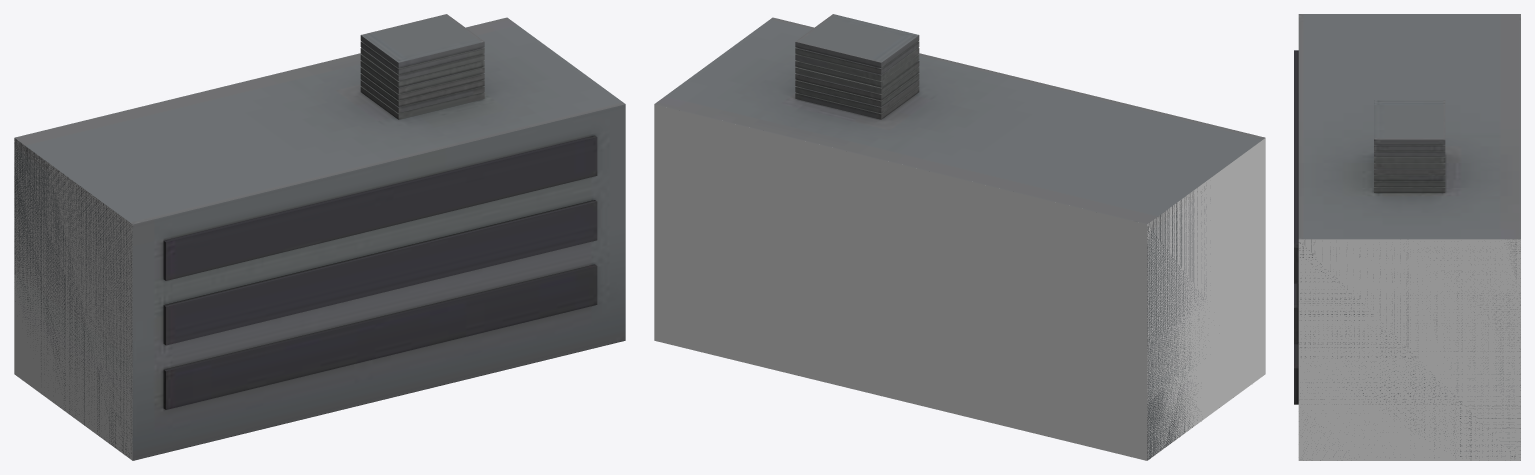
Rendered from tray_return.glb.
The picture shows the model from 3 angles, left to right: view 1: azimuth 30°, elevation 25°; view 2: azimuth 150°, elevation 25°; view 3: azimuth 270°, elevation 25°; orthographic projection. The views are drawn at different scales.
Visible parts, largest first — view 1: TrayReturn, COL_Body; view 2: COL_Body, TrayReturn; view 3: TrayReturn, COL_Body.
Part boxes in pixels (left/top/right/bottom): TrayReturn: left=14, top=14, right=625, bottom=460; COL_Body: left=14, top=138, right=132, bottom=460; COL_Body: left=654, top=104, right=1265, bottom=460; TrayReturn: left=654, top=14, right=1265, bottom=460; TrayReturn: left=1294, top=14, right=1520, bottom=460; COL_Body: left=1298, top=239, right=1520, bottom=460.
Size of the model in its own units: 2.4 by 1.37 by 1.02.
Materials: 3 (3 with a texture image).
